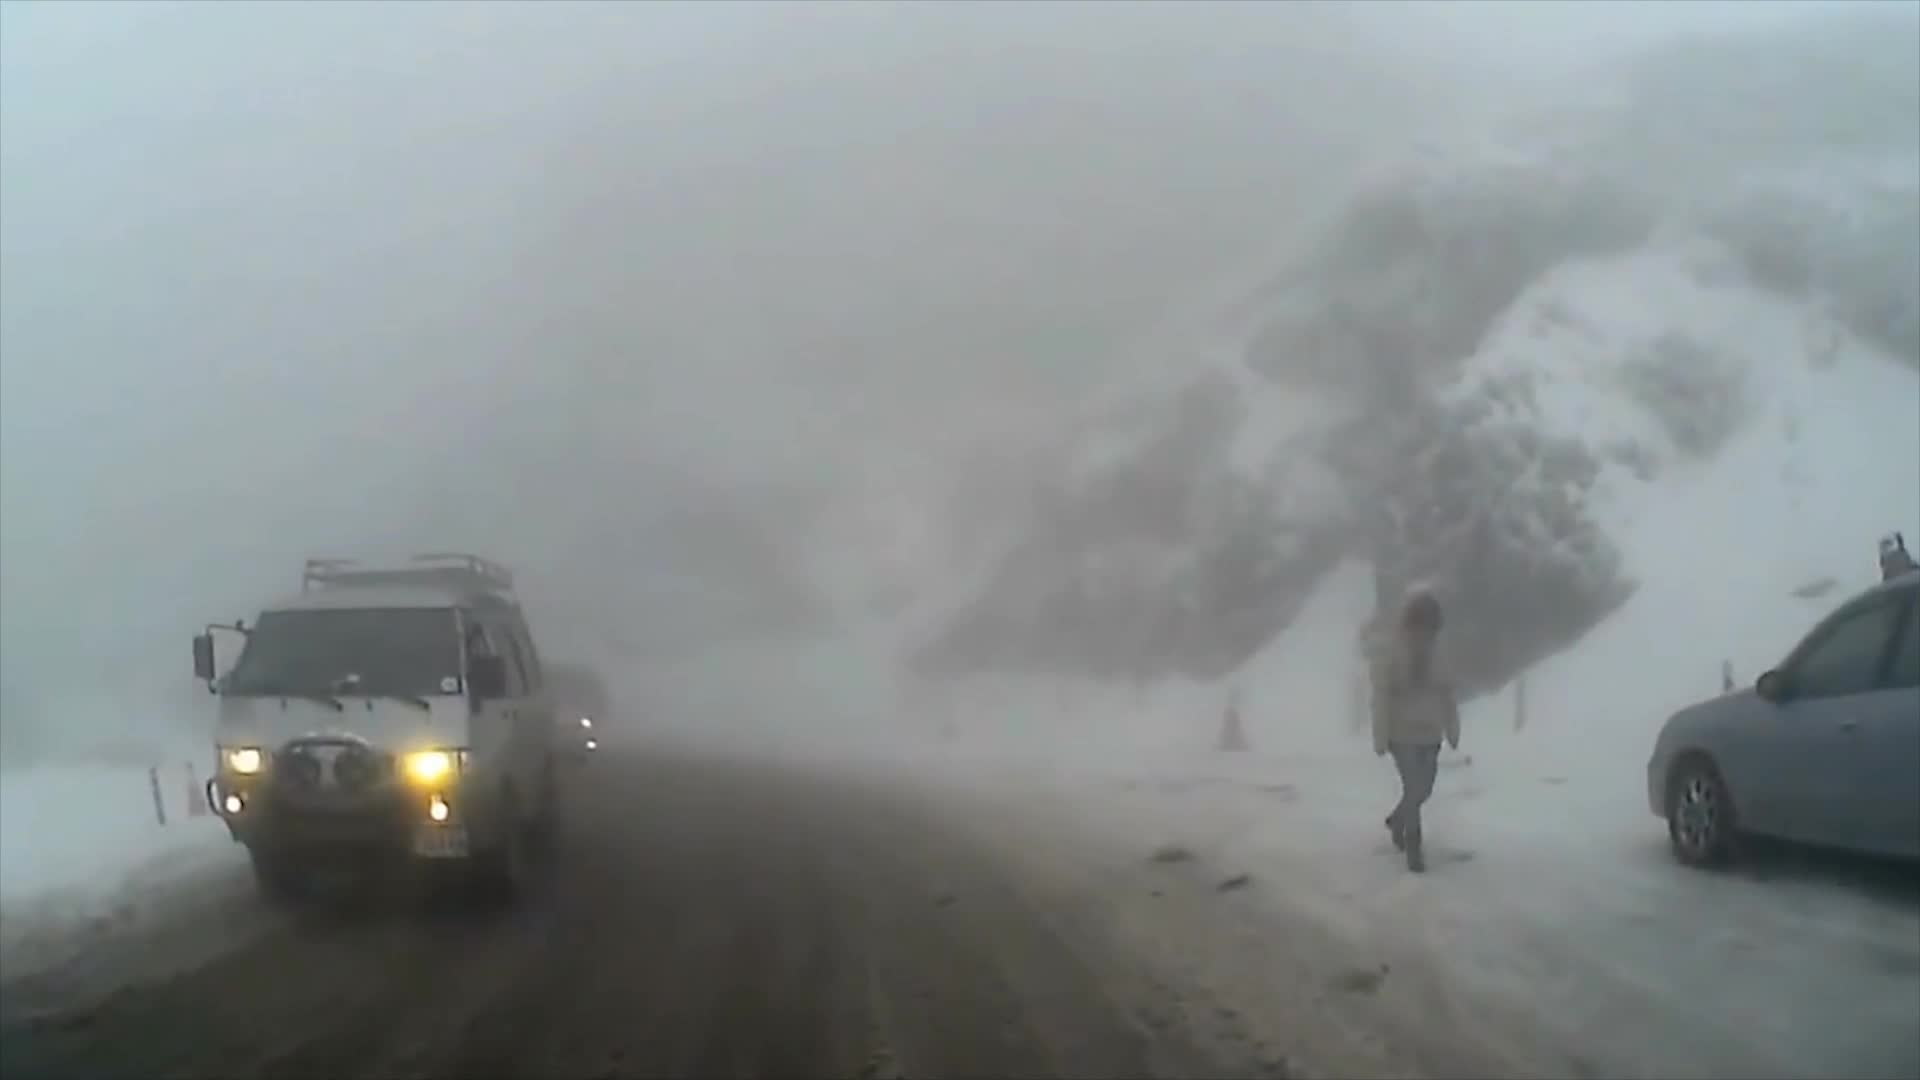pedestrian: (1365, 577, 1460, 878)
vehicle: (189, 550, 564, 917), (1643, 565, 1919, 903)
